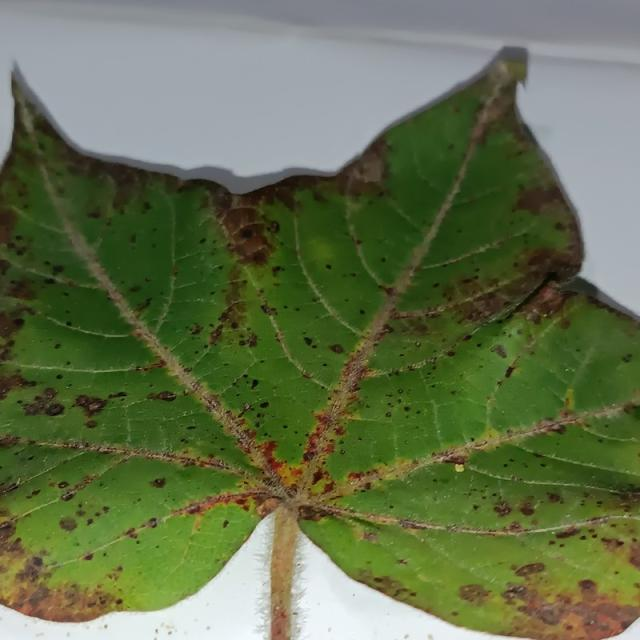Bacterial_Blight: (9, 573, 116, 620), (438, 282, 527, 330), (514, 280, 570, 324), (511, 180, 568, 218), (517, 246, 572, 285), (348, 150, 386, 189), (585, 600, 631, 631), (58, 471, 102, 502), (230, 229, 270, 263), (0, 305, 29, 347), (256, 438, 284, 477), (18, 555, 47, 585), (368, 575, 407, 597), (217, 301, 245, 331), (0, 373, 31, 400), (530, 602, 563, 624), (458, 584, 492, 604), (8, 279, 37, 302), (531, 418, 565, 436), (26, 585, 52, 608), (600, 536, 626, 555), (438, 449, 467, 466), (514, 562, 545, 577), (145, 390, 178, 402), (502, 585, 528, 600), (296, 505, 322, 520), (328, 338, 346, 359), (0, 520, 17, 540), (58, 516, 78, 532), (44, 402, 65, 417), (554, 527, 580, 539), (493, 501, 512, 517), (209, 324, 224, 344), (310, 469, 326, 487), (577, 579, 597, 593), (632, 540, 640, 572), (519, 503, 536, 516), (492, 344, 507, 358), (245, 332, 258, 348), (361, 530, 378, 542), (260, 303, 275, 316), (142, 517, 157, 529), (186, 502, 201, 514), (547, 492, 563, 503), (60, 490, 76, 501), (151, 477, 166, 488), (268, 221, 280, 233), (302, 450, 315, 461), (240, 228, 253, 239), (84, 419, 98, 429), (56, 480, 69, 490), (621, 353, 634, 363), (89, 401, 102, 411), (585, 616, 597, 626), (303, 336, 314, 346), (250, 378, 259, 389), (259, 401, 269, 409), (222, 519, 229, 528), (55, 373, 64, 380), (53, 343, 62, 350), (274, 605, 281, 613), (359, 308, 366, 315), (65, 321, 73, 327), (385, 411, 392, 417), (325, 263, 332, 269), (339, 449, 346, 455), (397, 388, 404, 394), (415, 340, 421, 346), (404, 440, 409, 445), (206, 626, 211, 631)
Cotton: (0, 48, 639, 639)
